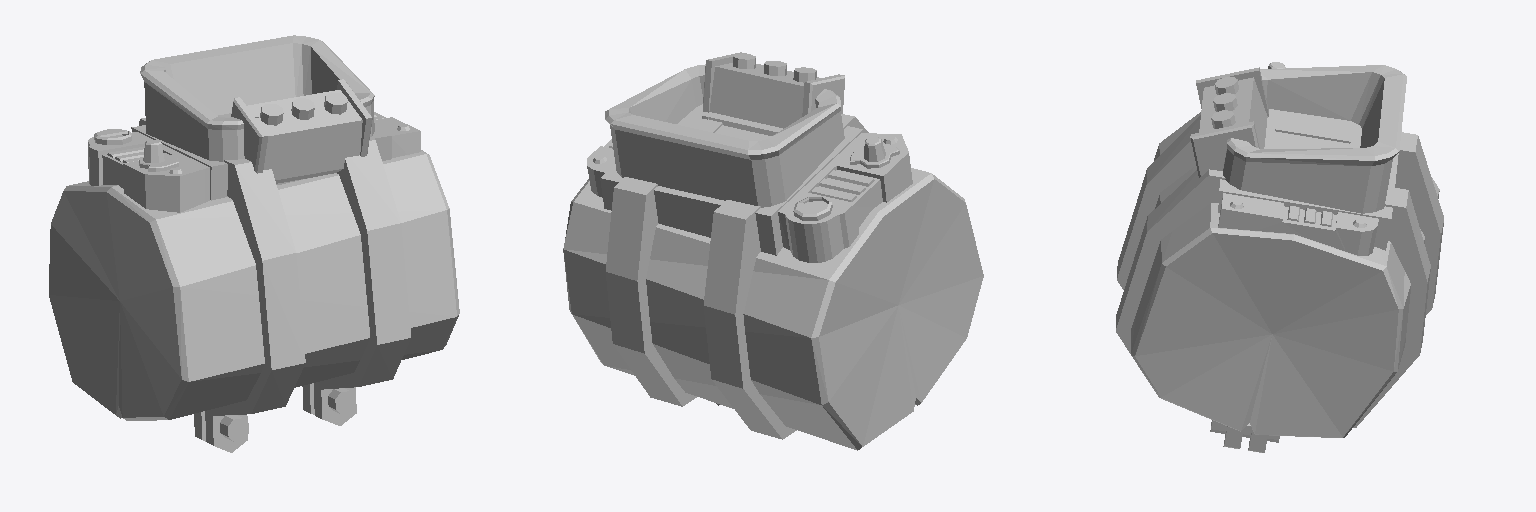
File: pipboy_casing.obj
3 views of the same model, side by side, from view 1: azimuth 30°, elevation 25°; view 2: azimuth 150°, elevation 25°; view 3: azimuth 270°, elevation 25° (orthographic).
Parts seen in each view (by area): view 1: bet_pb_reference; view 2: bet_pb_reference; view 3: bet_pb_reference.
Part boxes in pixels (left/top/right/bottom): bet_pb_reference: left=49, top=35, right=459, bottom=452; bet_pb_reference: left=563, top=52, right=983, bottom=450; bet_pb_reference: left=1116, top=62, right=1443, bottom=452.
Size of the model in its own units: 8.87 by 10.07 by 8.67.